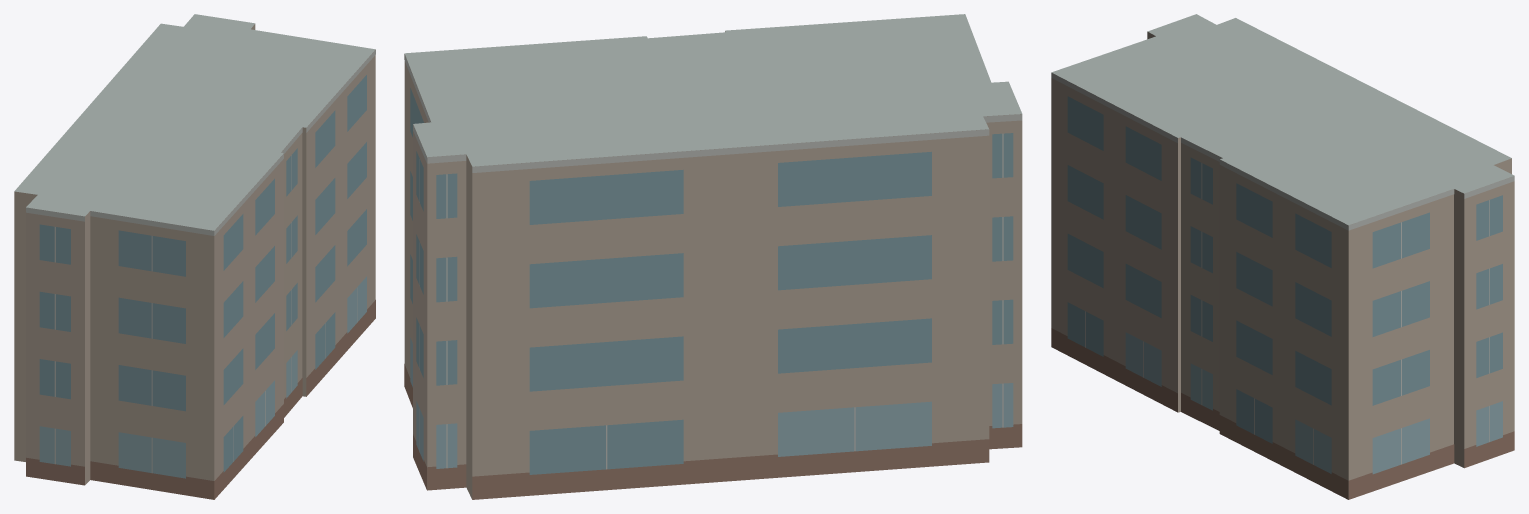
The model's file is survey-upis-32730046.glb.
3 views of the same model, side by side, from view 1: azimuth 30°, elevation 25°; view 2: azimuth 150°, elevation 25°; view 3: azimuth 270°, elevation 25° (orthographic). The views are drawn at different scales.
Parts seen in each view (by area): view 1: survey-upis-32730046.tmp; view 2: survey-upis-32730046.tmp; view 3: survey-upis-32730046.tmp.
Boxes of the visible parts, x1=… form: survey-upis-32730046.tmp: x1=14, y1=14, x2=375, y2=499; survey-upis-32730046.tmp: x1=404, y1=14, x2=1022, y2=499; survey-upis-32730046.tmp: x1=1051, y1=14, x2=1514, y2=499.
Bounding box in the file's own units: 20.64 × 12.5 × 19.13.
